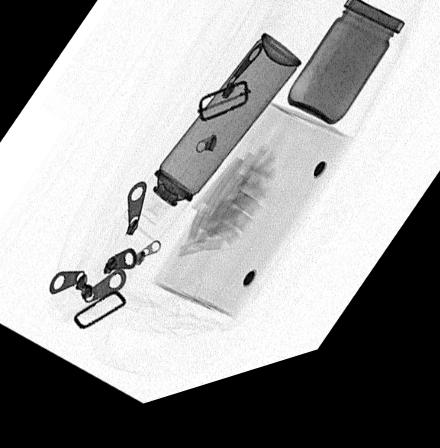Sprayer: (122, 49, 301, 254)
